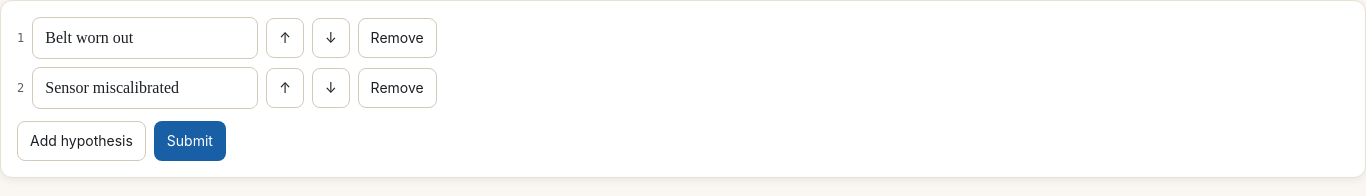
HypothesisReviewCard › reorders a hypothesis by moving it down
The image size is (1366, 196).
Click the button named "move down" at (331, 38), box [312, 18, 350, 58]
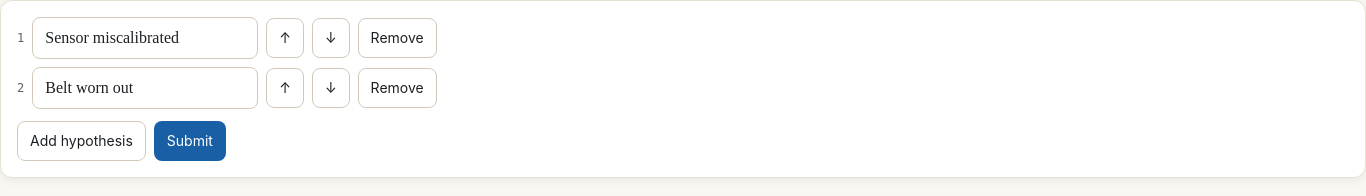
Now the field showing "Hypothesis 1" holds "Sensor miscalibrated", box [45, 18, 245, 58]
Now the field showing "Hypothesis 2" holds "Belt worn out", box [45, 68, 245, 108]
